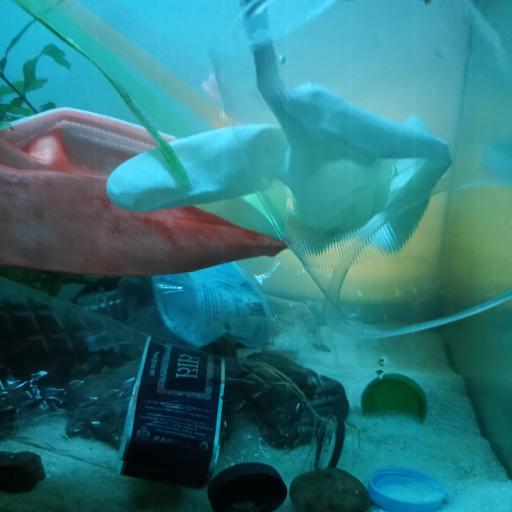bottle_cap: (202, 460, 288, 510), (370, 467, 446, 511), (362, 373, 430, 415)
glove: (103, 0, 453, 249)
mask: (0, 104, 286, 279)
plastic_bottle: (0, 277, 362, 487), (73, 268, 326, 350)
plastic_cup: (207, 0, 512, 344)
plastic_straw: (59, 0, 223, 126)
